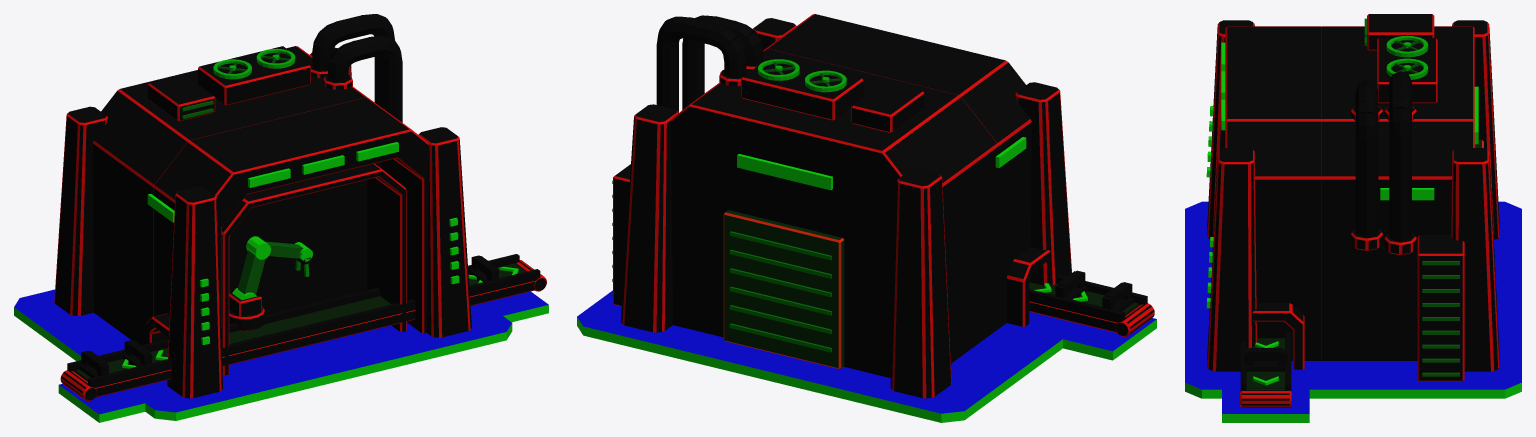
The model's file is SM_Holo_Assembler_T2.fbx.
The picture shows the model from 3 angles, left to right: view 1: azimuth 30°, elevation 25°; view 2: azimuth 150°, elevation 25°; view 3: azimuth 270°, elevation 25°; orthographic projection. The views are drawn at different scales.
Parts seen in each view (by area): view 1: SM_Holo_Assembler_T2; view 2: SM_Holo_Assembler_T2; view 3: SM_Holo_Assembler_T2.
Part boxes in pixels (<box>): SM_Holo_Assembler_T2: <box>14,14,548,422</box>; SM_Holo_Assembler_T2: <box>577,14,1156,422</box>; SM_Holo_Assembler_T2: <box>1185,14,1521,422</box>.
Size of the model in its own units: 17.13 by 9.27 by 10.
